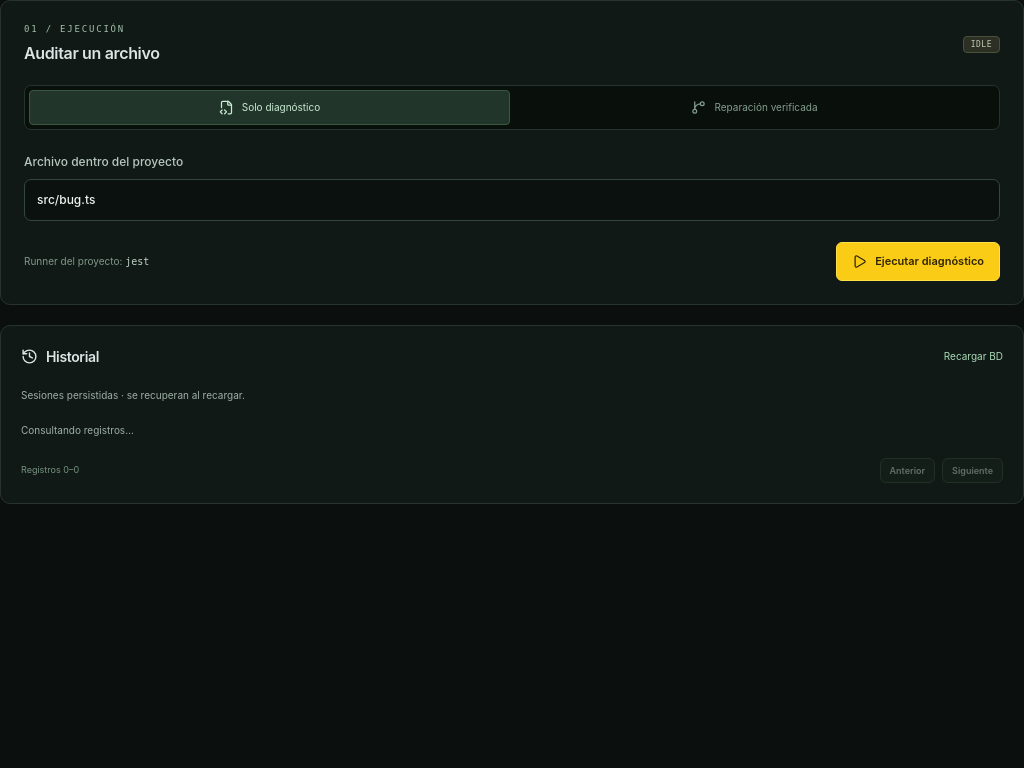
dashboard views › does not label a failed diagnosis as a successful read-only diagnosis
Click the button "Ejecutar diagnóstico" at (918, 262), box [836, 242, 1000, 281]
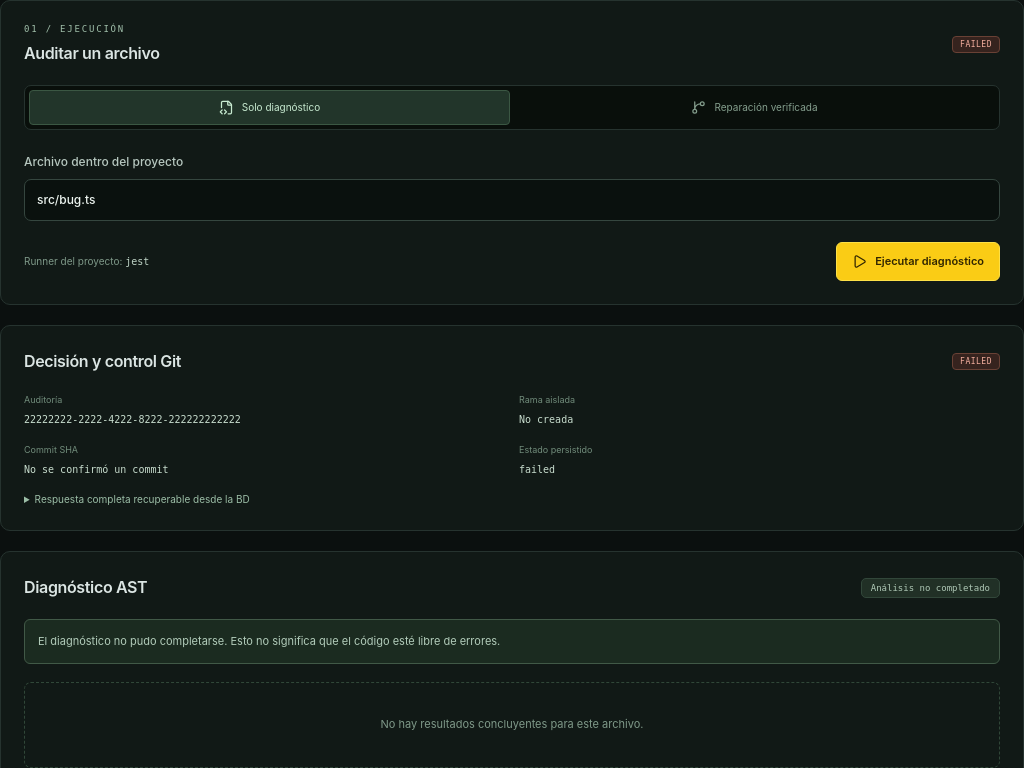
Now the text "Estado persistido" is shown, box [519, 444, 592, 455]
